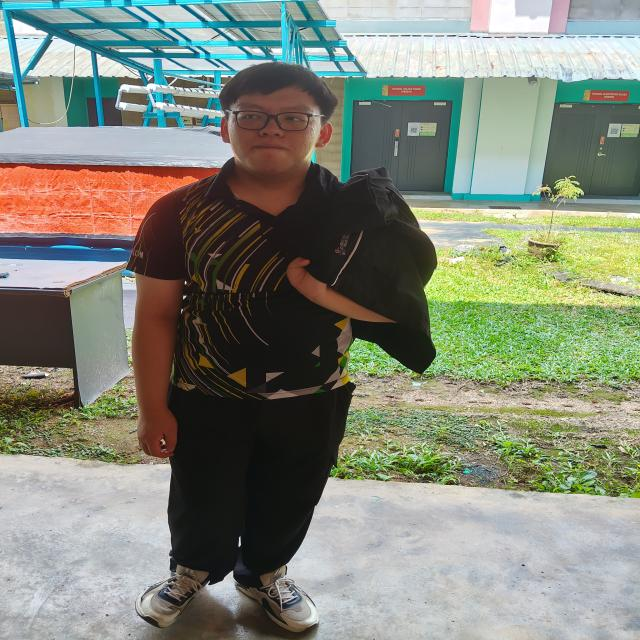person_without_labcoat: (129, 63, 436, 632)
